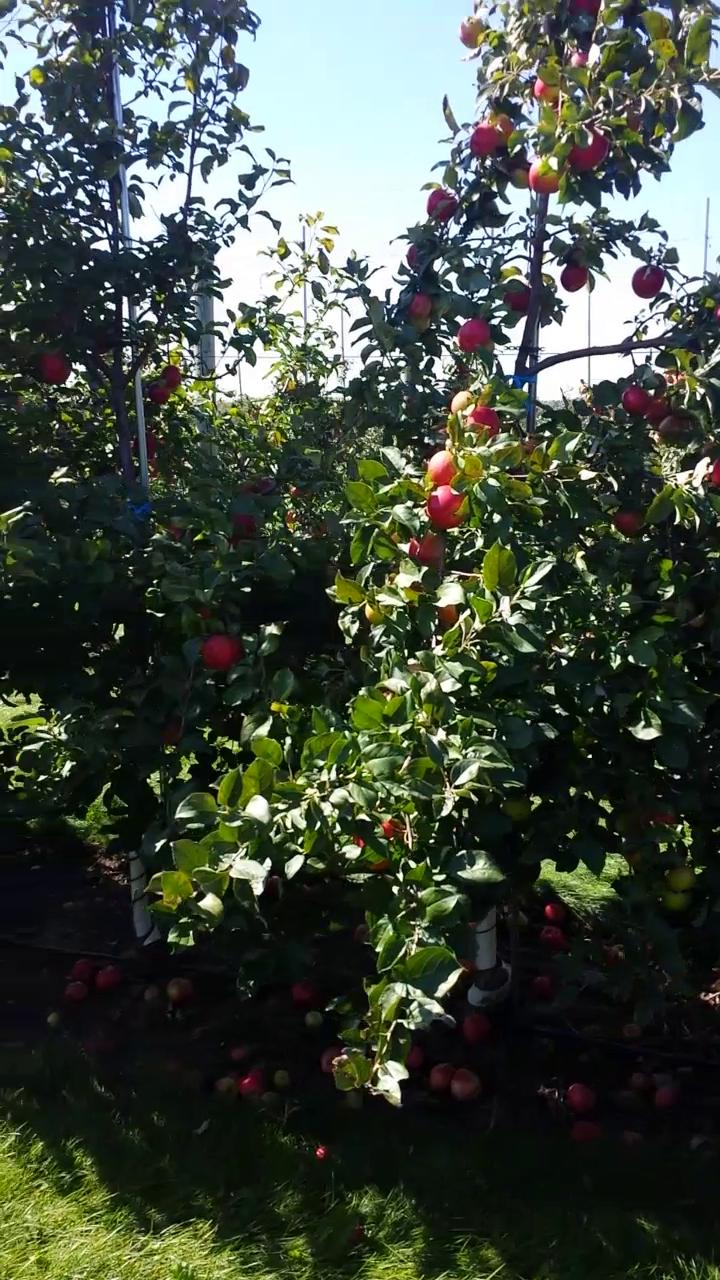Apple: (352, 816, 406, 869), (567, 118, 610, 174), (424, 484, 468, 529), (200, 632, 245, 673), (408, 529, 447, 564), (427, 449, 462, 487), (529, 156, 562, 195), (456, 318, 491, 354), (631, 262, 664, 299), (425, 187, 459, 221), (35, 352, 71, 384), (466, 405, 500, 438), (468, 122, 498, 157), (458, 14, 487, 49), (486, 111, 513, 146), (620, 384, 651, 414), (230, 513, 257, 547), (561, 262, 589, 293), (503, 286, 531, 316), (613, 511, 648, 535), (499, 794, 531, 820), (160, 718, 189, 746), (644, 398, 671, 427), (658, 414, 695, 435), (132, 428, 156, 458), (638, 809, 678, 827), (533, 75, 560, 101), (666, 866, 696, 889), (660, 887, 690, 910), (449, 388, 474, 413), (567, 0, 602, 17), (237, 479, 275, 494), (409, 293, 433, 316), (364, 600, 385, 626), (510, 164, 530, 189), (148, 381, 170, 403), (161, 363, 182, 386), (438, 603, 459, 625), (623, 846, 642, 869), (90, 329, 107, 353), (663, 370, 685, 387), (707, 454, 719, 484), (568, 49, 589, 66), (409, 316, 429, 333), (405, 243, 418, 268), (167, 526, 183, 542), (410, 579, 426, 593), (552, 100, 565, 116), (711, 300, 719, 319)
